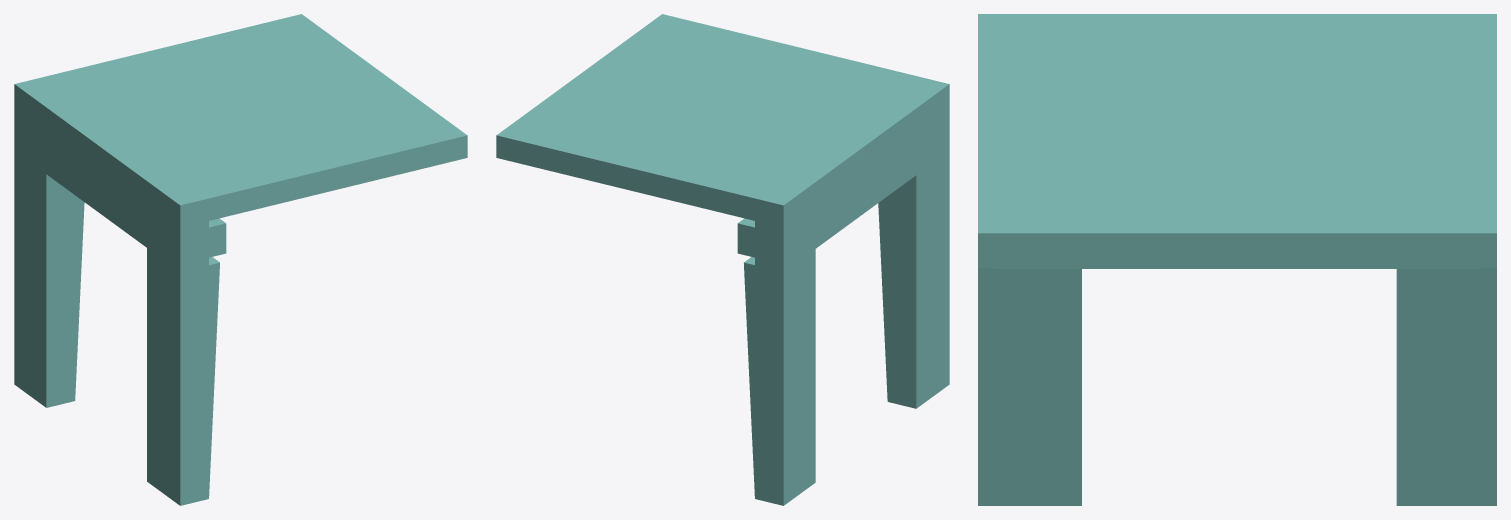
File: EspacioInicialPuertaInteriorBajoNI.gltf
3 renders of one model, left to right at view 1: azimuth 30°, elevation 25°; view 2: azimuth 150°, elevation 25°; view 3: azimuth 270°, elevation 25°, orthographic. The views are drawn at different scales.
Visible parts, largest first — view 1: Puerta interior; view 2: Puerta interior; view 3: Puerta interior.
Boxes of the visible parts, x1,y1,x2,y2 form: Puerta interior: (14, 14, 467, 505); Puerta interior: (496, 14, 949, 505); Puerta interior: (978, 14, 1496, 505).
Size of the model in its own units: 2 by 2 by 2.
